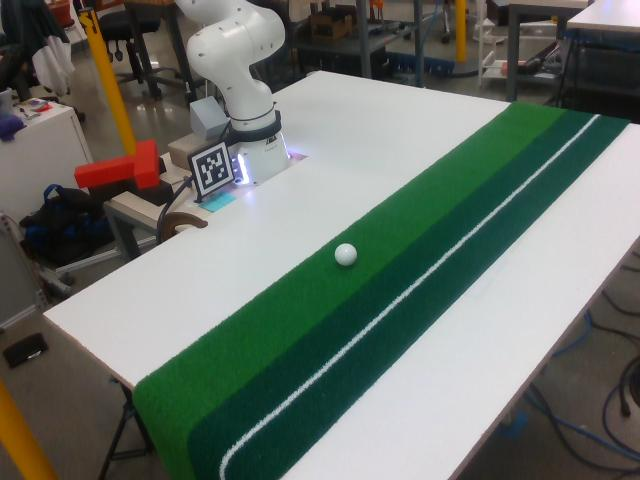golf_balls: (335, 243, 357, 266)
